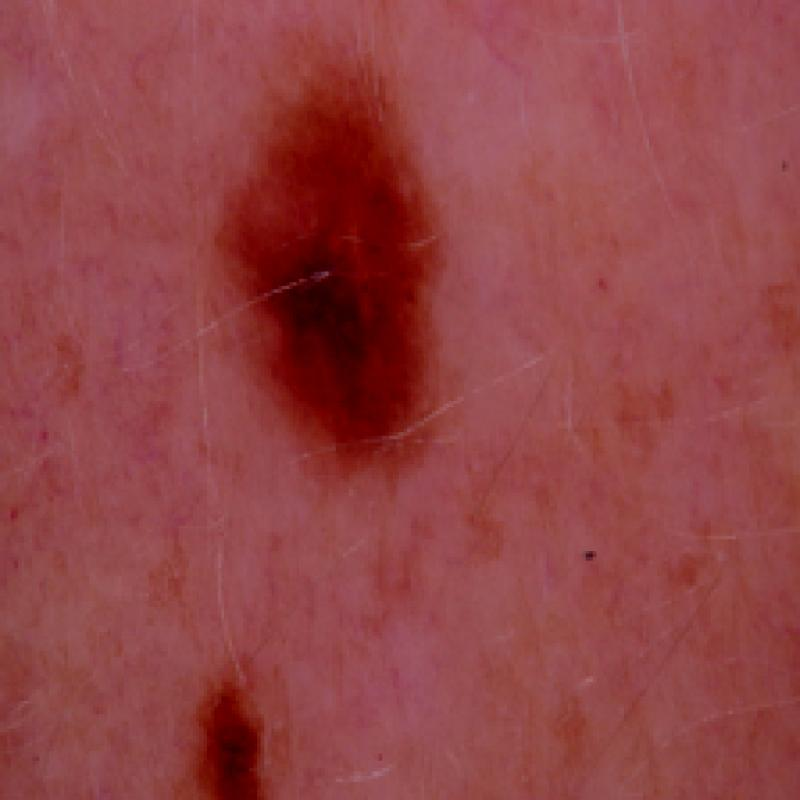benign: (178, 54, 470, 484), (148, 673, 296, 796)
